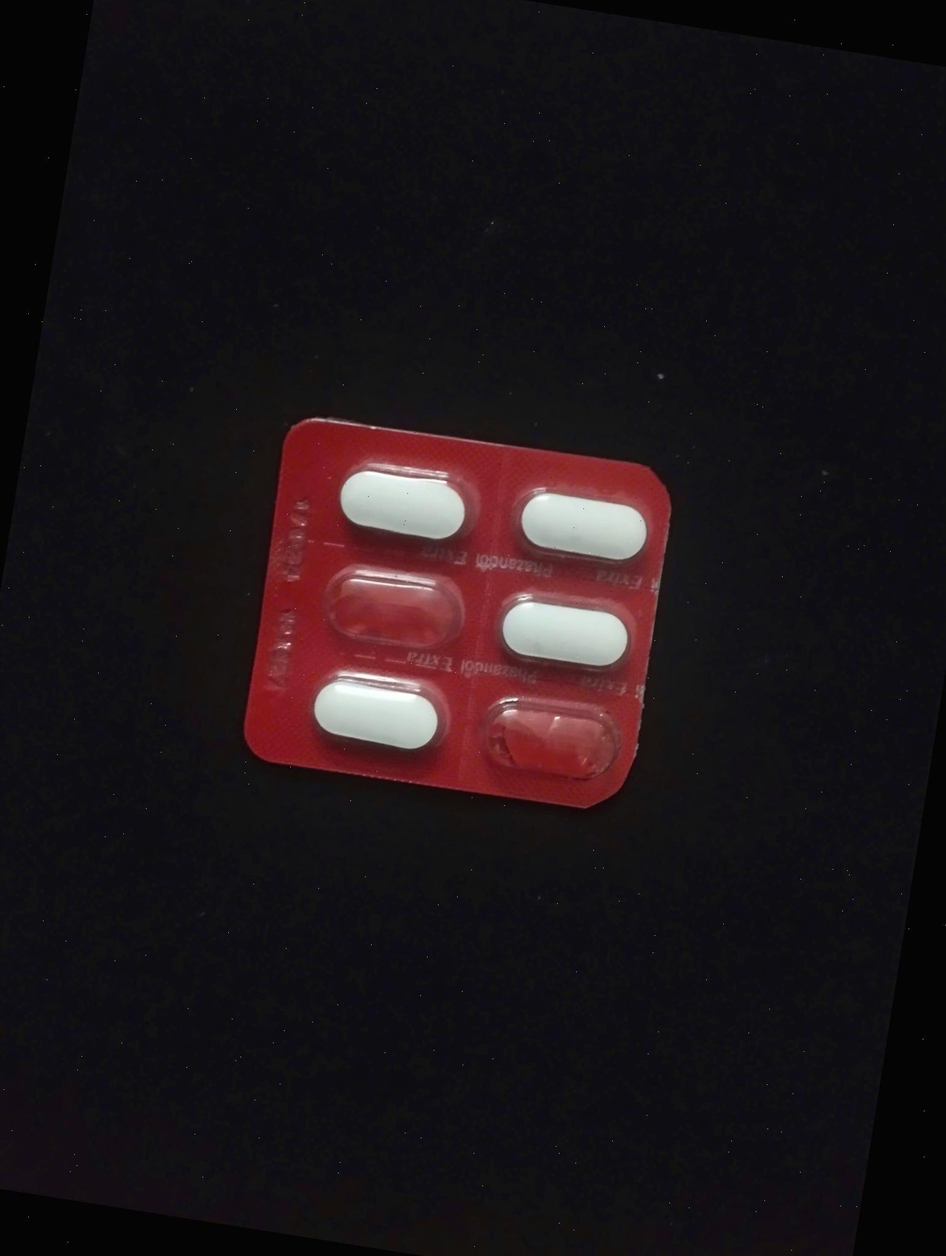Empty: (475, 693, 636, 797), (322, 559, 477, 653)
Full: (483, 580, 640, 684), (302, 659, 455, 760), (326, 458, 483, 550), (508, 480, 649, 575)
